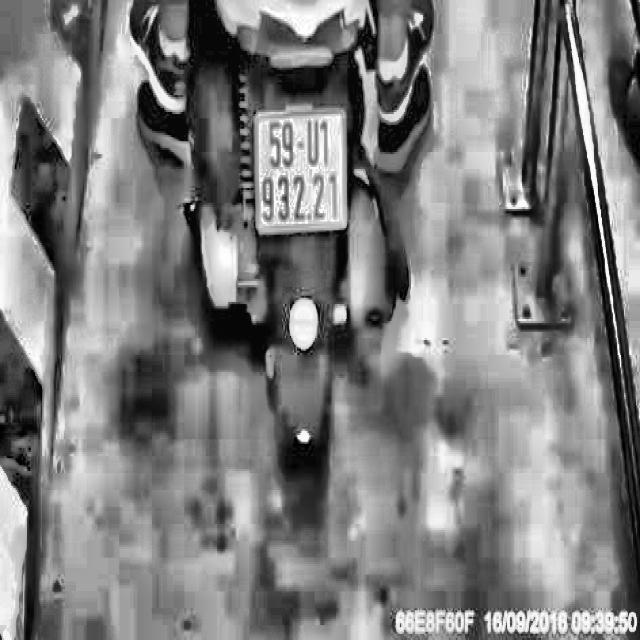plate: (250, 98, 353, 238)
